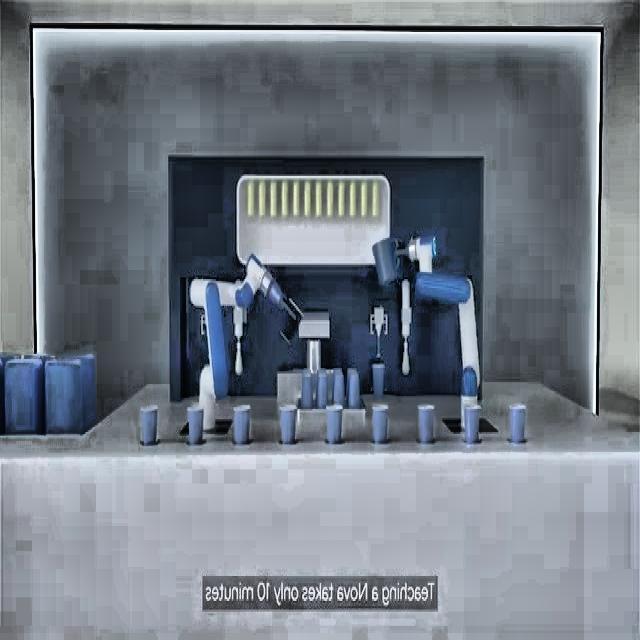robot: (183, 251, 302, 434), (372, 231, 482, 398)
